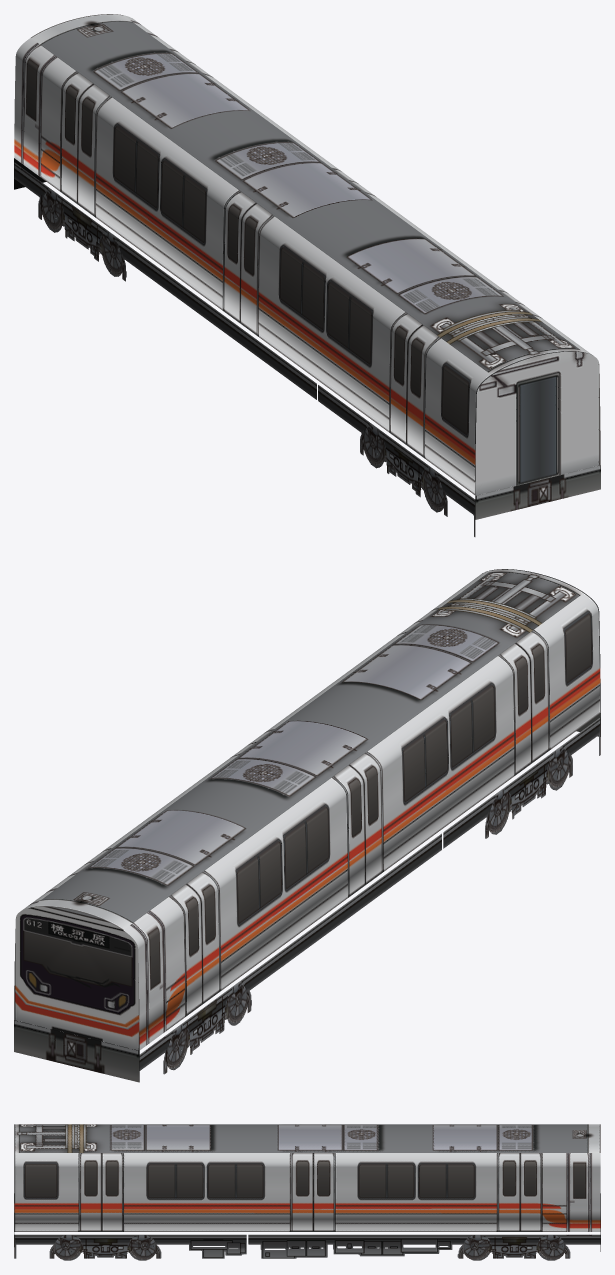
File: car2.glb
3 renders of one model, top to bottom at view 1: azimuth 30°, elevation 25°; view 2: azimuth 150°, elevation 25°; view 3: azimuth 270°, elevation 25°, orthographic. The views are drawn at different scales.
Visible parts, largest first — view 1: iyotetu610-car2; view 2: iyotetu610-car2; view 3: iyotetu610-car2.
Boxes of the visible parts, x1,y1,x2,y2 form: iyotetu610-car2: (14,14,600,536); iyotetu610-car2: (14,569,600,1082); iyotetu610-car2: (14,1124,600,1260).
Bounding box in the file's own units: 2.78 × 3.6 × 17.76.
9 materials, 8 textured.
